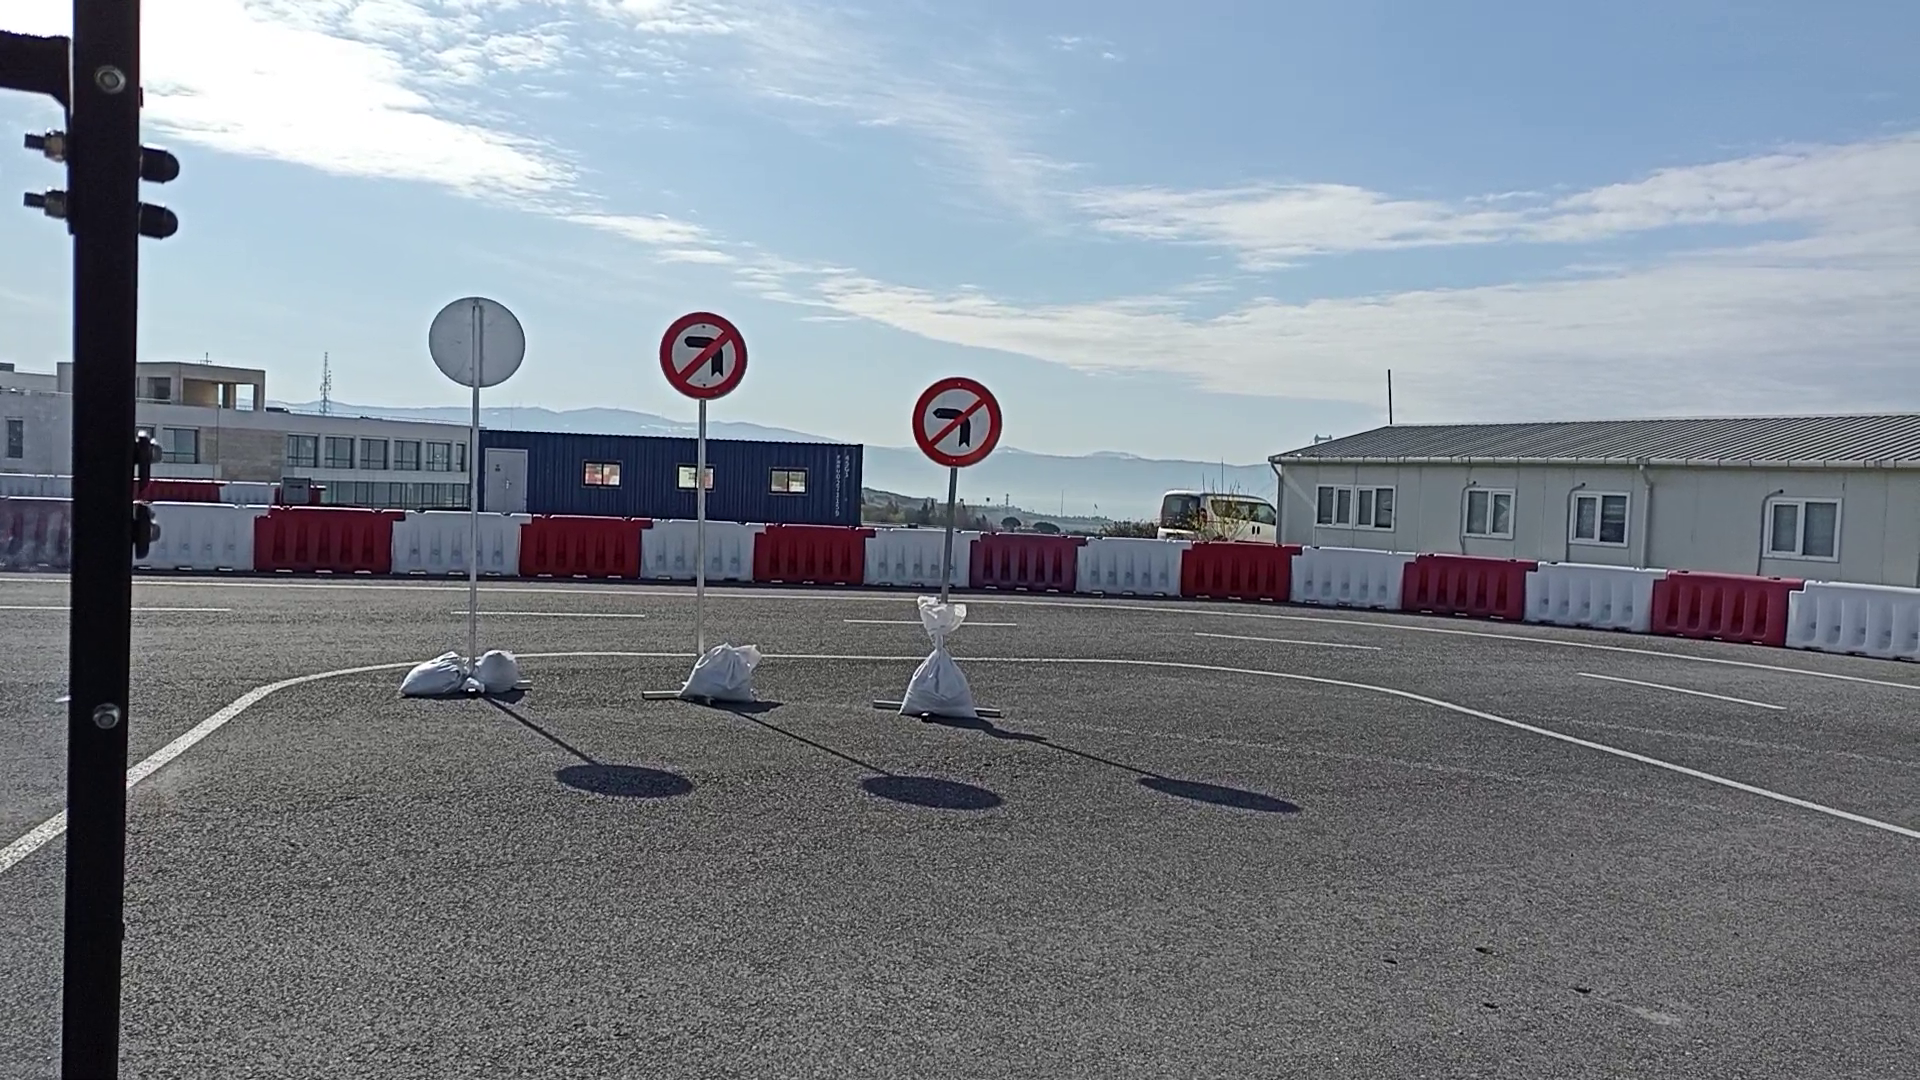noleft: (910, 375, 1004, 468), (658, 310, 749, 402)
